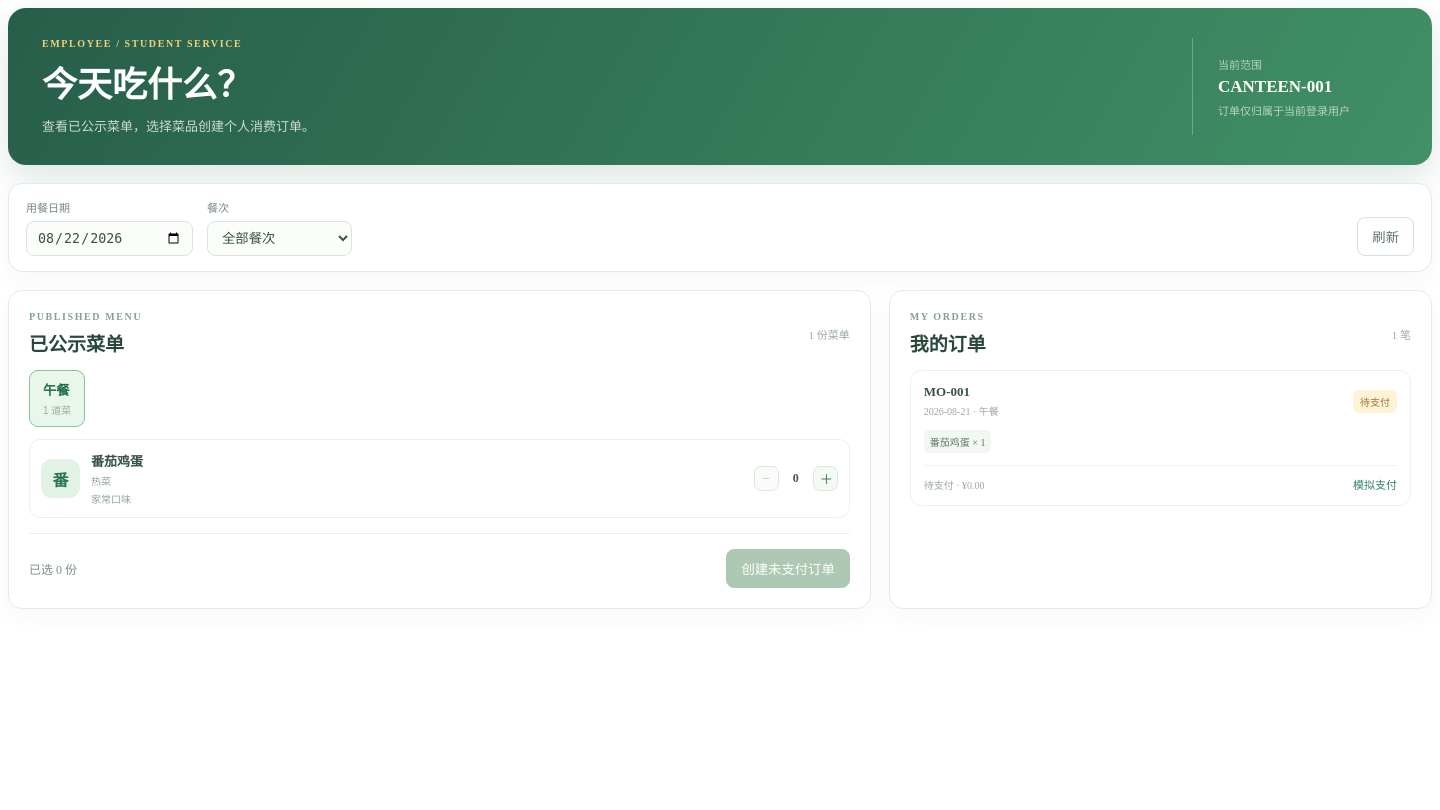
Test case: DinerWorkspace › completes a study mock payment for an own unpaid order and refreshes the list
The image size is (1440, 810).
Click the button with aria-label "模拟支付".
click(1375, 484)  # box [1353,476,1397,492]
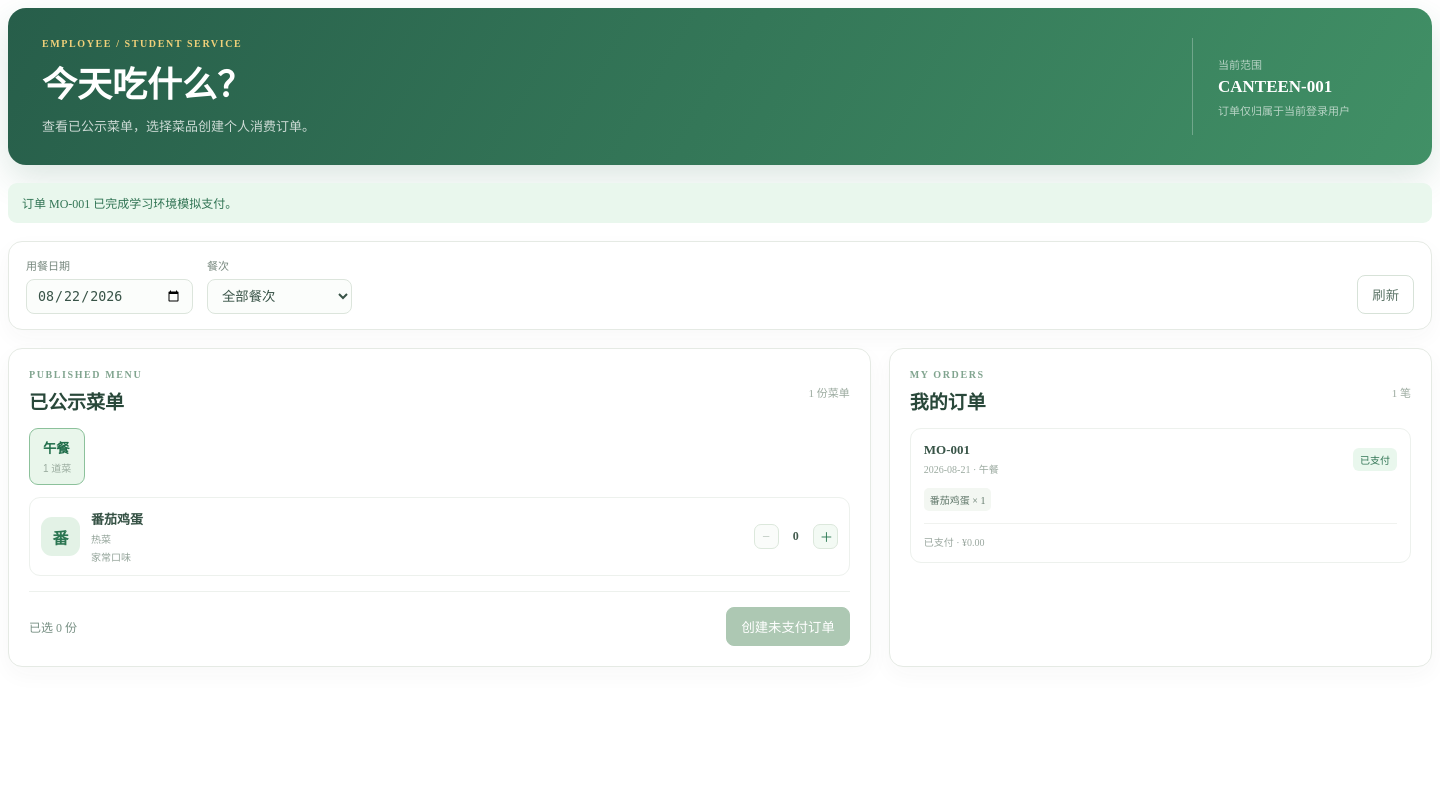
Check: the text "订单 MO-001 已完成学习环境模拟支付" is shown, box [22,197,237,211]
Check: the text "已支付" is shown, box [1353,448,1397,471]
